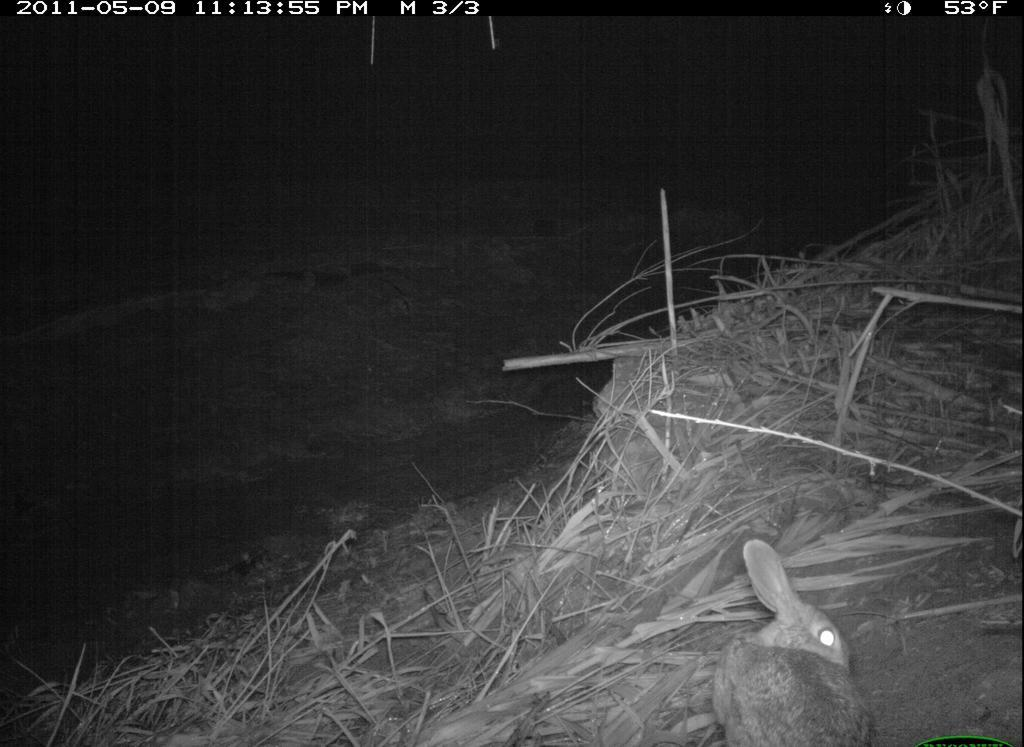rabbit: (696, 538, 889, 747)
